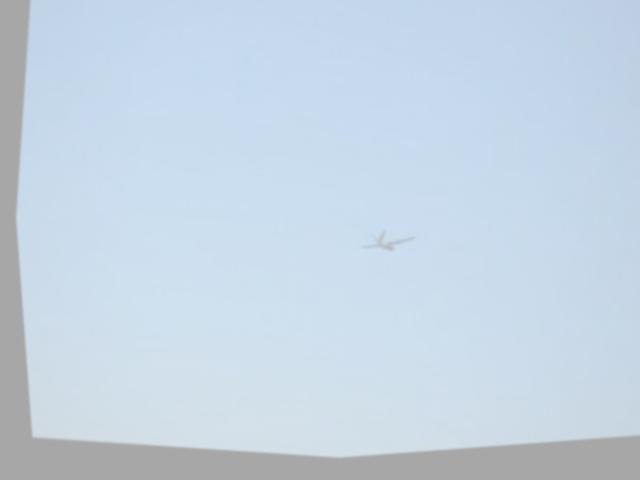uav: (347, 218, 420, 279)
